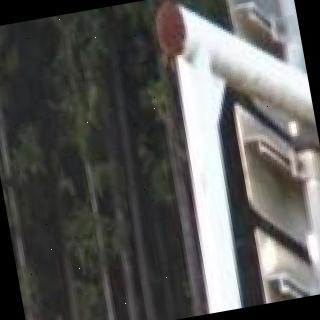fire: (11, 234, 43, 320)
